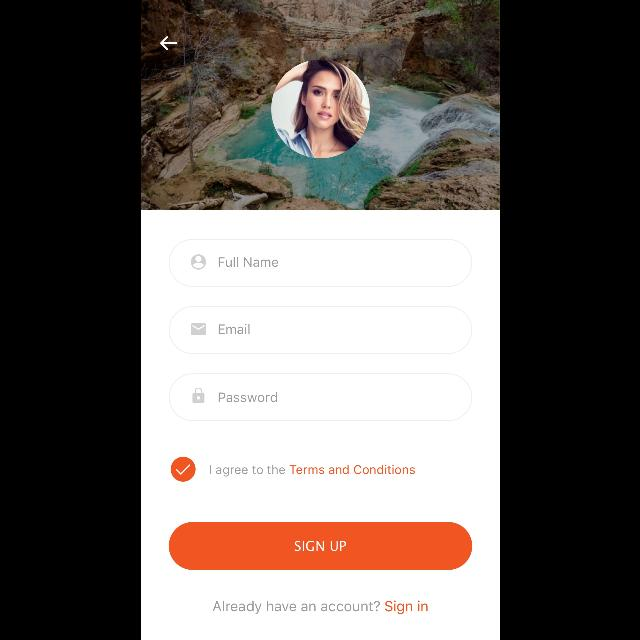checkbox: (170, 457, 194, 481)
icon: (190, 254, 206, 270), (160, 36, 177, 50), (190, 323, 206, 335), (192, 388, 204, 402)
image: (141, 0, 499, 210), (270, 60, 370, 158)
input: (168, 239, 472, 287), (168, 306, 472, 354), (168, 373, 472, 421)
text: (212, 600, 428, 614), (209, 464, 415, 476), (218, 257, 278, 267), (218, 392, 276, 402), (218, 324, 248, 334)
textbutton: (168, 522, 472, 570)
